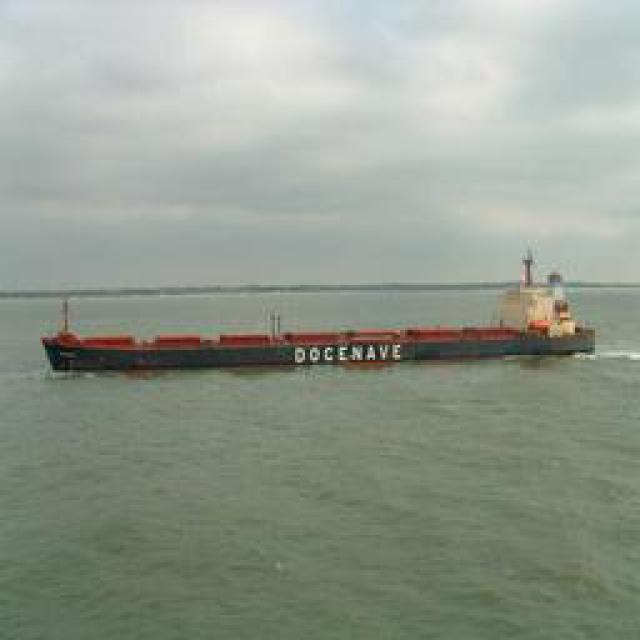Ship: (40, 246, 604, 384)
